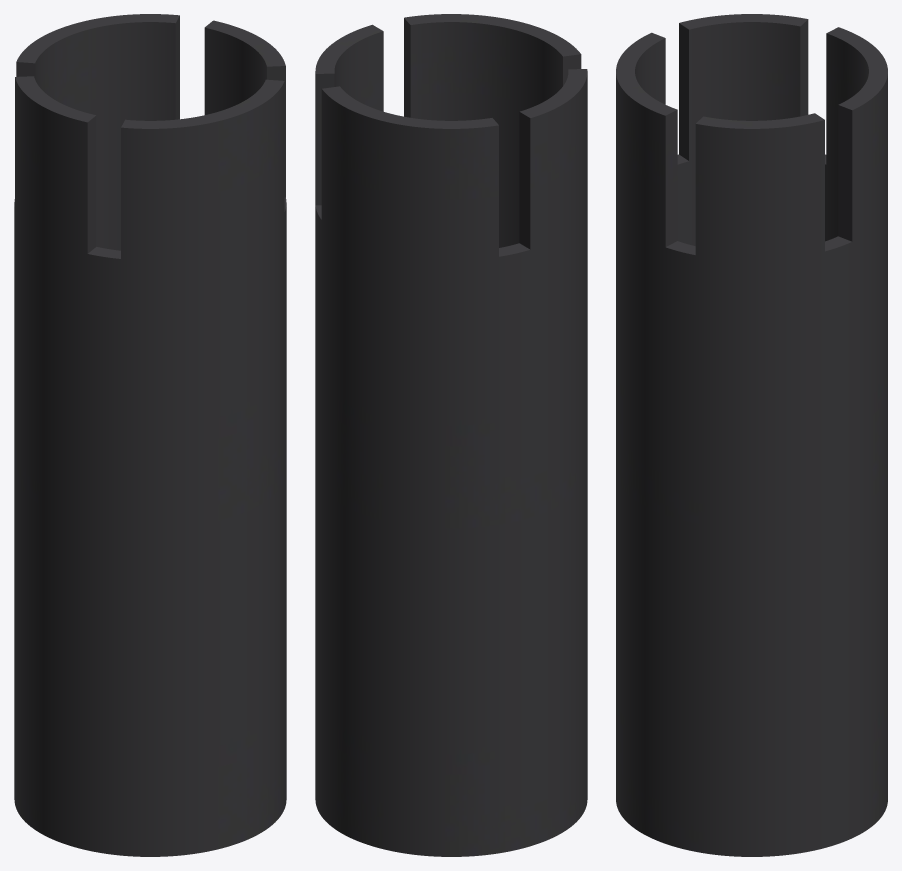
Rendered from 06_vez_cerna.glb.
3 renders of one model, left to right at view 1: azimuth 30°, elevation 25°; view 2: azimuth 150°, elevation 25°; view 3: azimuth 270°, elevation 25°, orthographic.
Visible parts, largest first — view 1: 06_vez_cerna; view 2: 06_vez_cerna; view 3: 06_vez_cerna.
Boxes of the visible parts, x1,y1,x2,y2 form: 06_vez_cerna: [14, 14, 286, 856]; 06_vez_cerna: [315, 14, 587, 856]; 06_vez_cerna: [616, 14, 887, 856].
Bounding box in the file's own units: 0.03 × 0.0886 × 0.03.
1 material, 1 textured.
